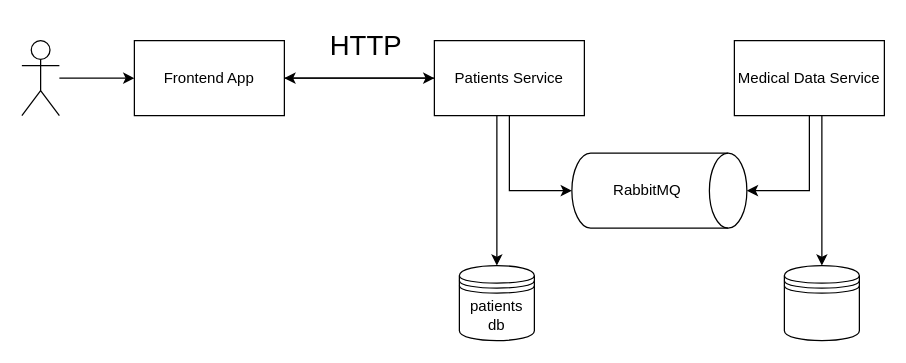
Some shapes in this 906 by 363 pixel diagram are drawn without their labels. The shapes that lost their labels are listed below. From the top down, each one's centre as x and y in pixels, then its label:
At point 40,77: "User".
At point 821,302: "medical data db".
